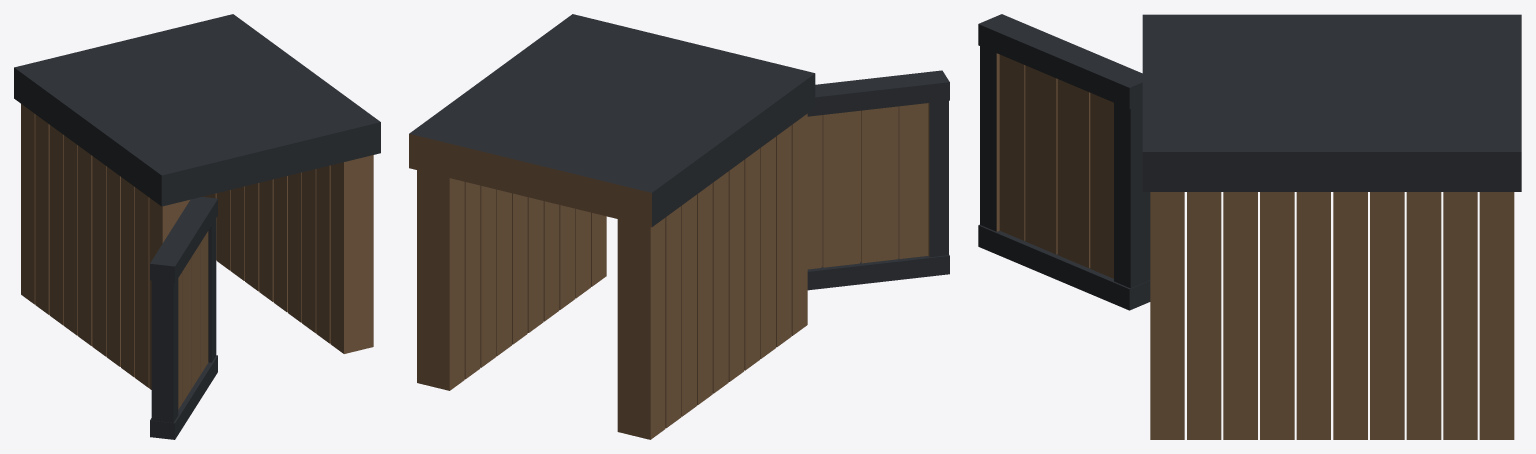
Rendered from Arrivee.fbx.
3 renders of one model, left to right at view 1: azimuth 30°, elevation 25°; view 2: azimuth 150°, elevation 25°; view 3: azimuth 270°, elevation 25°, orthographic. The views are drawn at different scales.
Parts seen in each view (by area): view 1: Cube.001; view 2: Cube.001; view 3: Cube.001.
Boxes of the visible parts, x1,y1,x2,y2 form: Cube.001: (14, 14, 380, 439); Cube.001: (409, 14, 949, 439); Cube.001: (978, 14, 1521, 439).
Bounding box in the file's own units: 1922 × 1453 × 2465.
